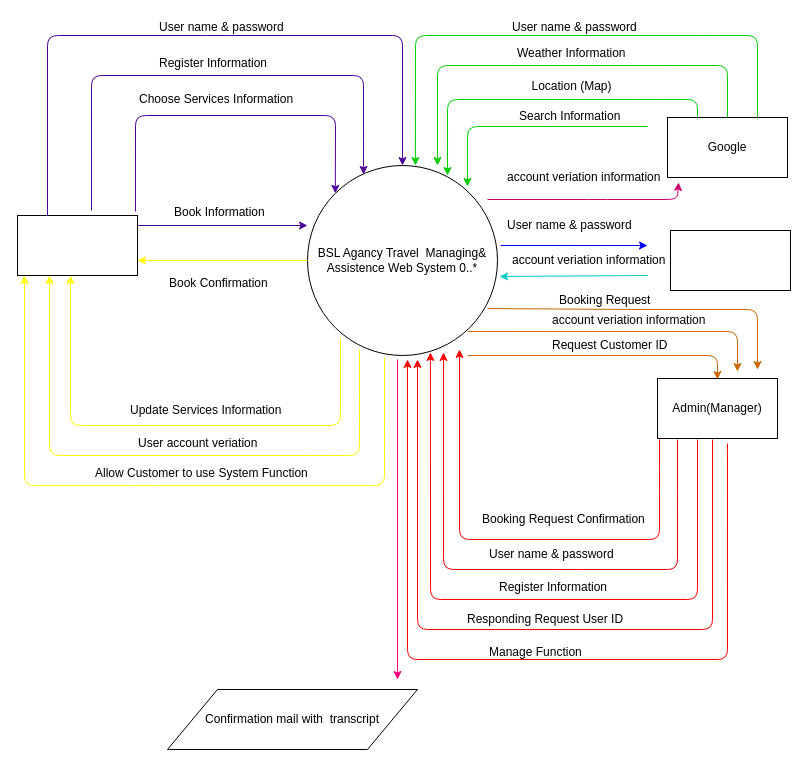
The diagram is 808 pixels wide and 767 high, and some of its shapes have lost their labels. The centre of each missing label's shape, as x and y in pixels:
"Customer" belongs at [77,245].
"Social Media" belongs at [730,260].
